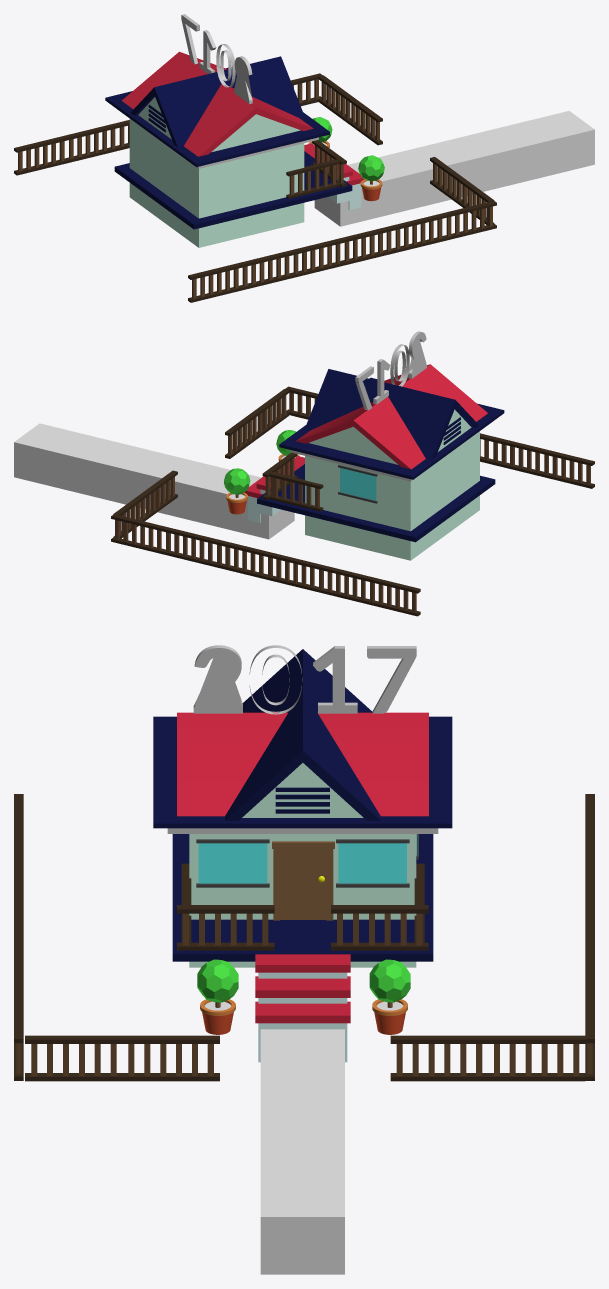
File: casitaexport5.dae
The picture shows the model from 3 angles, top to bottom: view 1: azimuth 30°, elevation 25°; view 2: azimuth 150°, elevation 25°; view 3: azimuth 270°, elevation 25°; orthographic projection. The views are drawn at different scales.
Visible parts, largest first — view 1: Cube.4, Cube.2, Cube.5 (×3), Cube.3, Cube, Cube.9, Extrude, Cap_2, Platonic, Cube.1; view 2: Cube.4, Cube.5 (×3), Cube.2, Cube.3, Cube, Cube.9, Extrude, Cap_2, Cube.7, Platonic, Cube.1; view 3: Cube.5 (×6), Cube.4 (×2), Cube.3, Cube, Cube.2, Cube.7 (×2), Cube.5_1 (×6), Cap_1, Cube.6, Platonic (×2), Cube.1, Extrude.
Boxes of the visible parts, x1,y1,x2,y2 form: Cube.4: [314, 111, 594, 226]; Cube.2: [129, 119, 304, 247]; Cube.5 (×3): [121, 51, 313, 156]; Cube.3: [114, 151, 352, 229]; Cube: [105, 67, 329, 166]; Cube.9: [211, 114, 300, 152]; Extrude: [182, 14, 252, 104]; Cap_2: [181, 15, 249, 103]; Platonic: [358, 155, 384, 181]; Cube.1: [117, 109, 318, 168]; Cube.4: [14, 423, 294, 539]; Cube.5 (×3): [296, 364, 487, 469]; Cube.2: [305, 431, 479, 560]; Cube.3: [257, 464, 495, 542]; Cube: [279, 377, 504, 479]; Cube.9: [309, 426, 397, 464]; Extrude: [355, 331, 422, 409]; Cap_2: [358, 332, 426, 410]; Cube.7: [340, 468, 376, 500]; Platonic: [224, 468, 250, 494]; Cube.1: [290, 421, 493, 481]; Cube.5 (×6): [177, 649, 428, 1023]; Cube.4 (×2): [258, 1023, 347, 1274]; Cube.3: [172, 834, 433, 961]; Cube: [153, 716, 452, 828]; Cube.2: [189, 834, 416, 967]; Cube.7 (×2): [198, 843, 406, 883]; Cube.5_1 (×6): [25, 905, 585, 1043]; Cap_1: [193, 648, 416, 713]; Cube.6: [280, 849, 326, 919]; Platonic (×2): [197, 959, 410, 1002]; Cube.1: [167, 828, 438, 833]; Extrude: [193, 645, 416, 714].
Bounding box in the file's own units: 2861 × 1168 × 1830.
